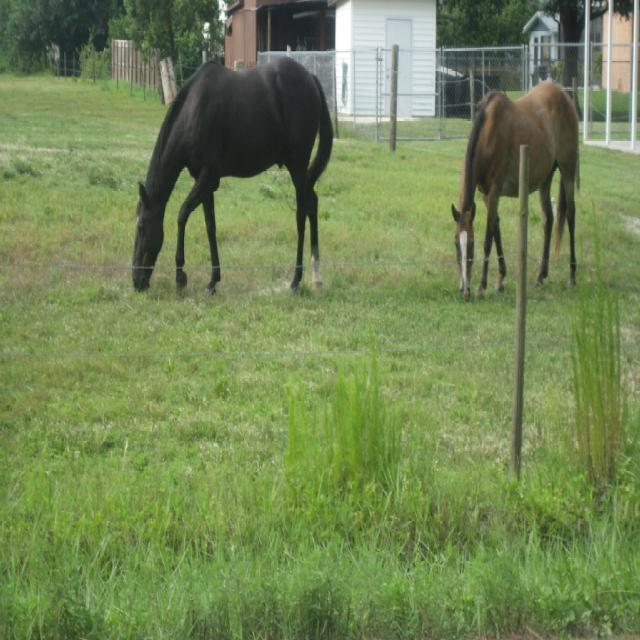Horse: (132, 54, 335, 302), (452, 81, 582, 307)
